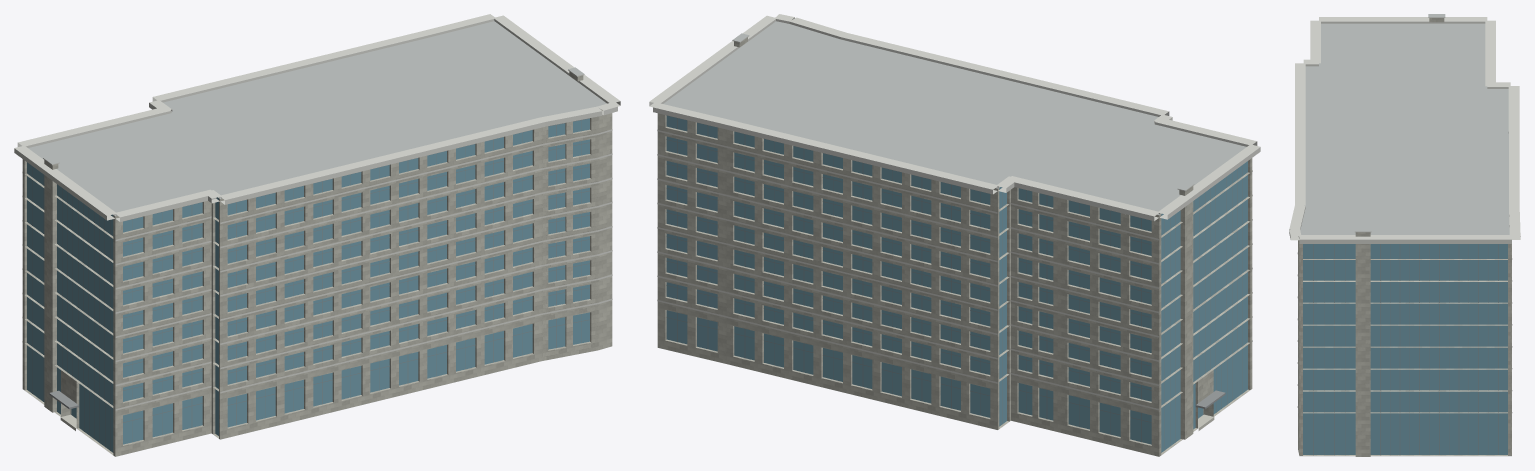
3 renders of one model, left to right at view 1: azimuth 30°, elevation 25°; view 2: azimuth 150°, elevation 25°; view 3: azimuth 270°, elevation 25°, orthographic. The views are drawn at different scales.
Parts seen in each view (by area): view 1: b104__wall, b104__glass, unist-batch-b104__roof, b104__trim, b104__frame; view 2: b104__wall, b104__glass, unist-batch-b104__roof, b104__trim, b104__frame; view 3: unist-batch-b104__roof, b104__glass, b104__wall, b104__trim, b104__frame.
Boxes of the visible parts, x1,y1,x2,y2 form: b104__wall: (22, 71, 612, 456); b104__glass: (27, 118, 589, 452); unist-batch-b104__roof: (24, 21, 611, 456); b104__trim: (14, 14, 620, 410); b104__frame: (32, 118, 589, 450); b104__wall: (657, 37, 1252, 456); b104__glass: (666, 116, 1247, 452); unist-batch-b104__roof: (659, 21, 1251, 456); b104__trim: (649, 14, 1260, 410); b104__frame: (666, 115, 1242, 450); unist-batch-b104__roof: (1299, 14, 1511, 456); b104__glass: (1303, 244, 1507, 454); b104__wall: (1298, 18, 1511, 456); b104__trim: (1289, 17, 1520, 412); b104__frame: (1313, 244, 1498, 455).
Bounding box in the file's own units: 78.52 × 37.45 × 34.39.
7 materials, 1 textured.
